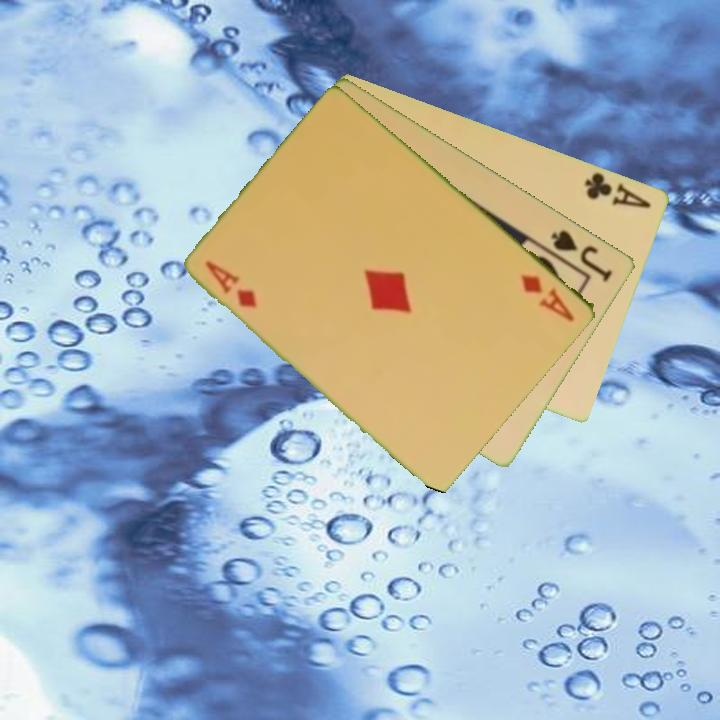Ac: (581, 168, 655, 211)
Ad: (517, 270, 578, 325), (202, 256, 261, 311)
Js: (547, 226, 616, 285)
